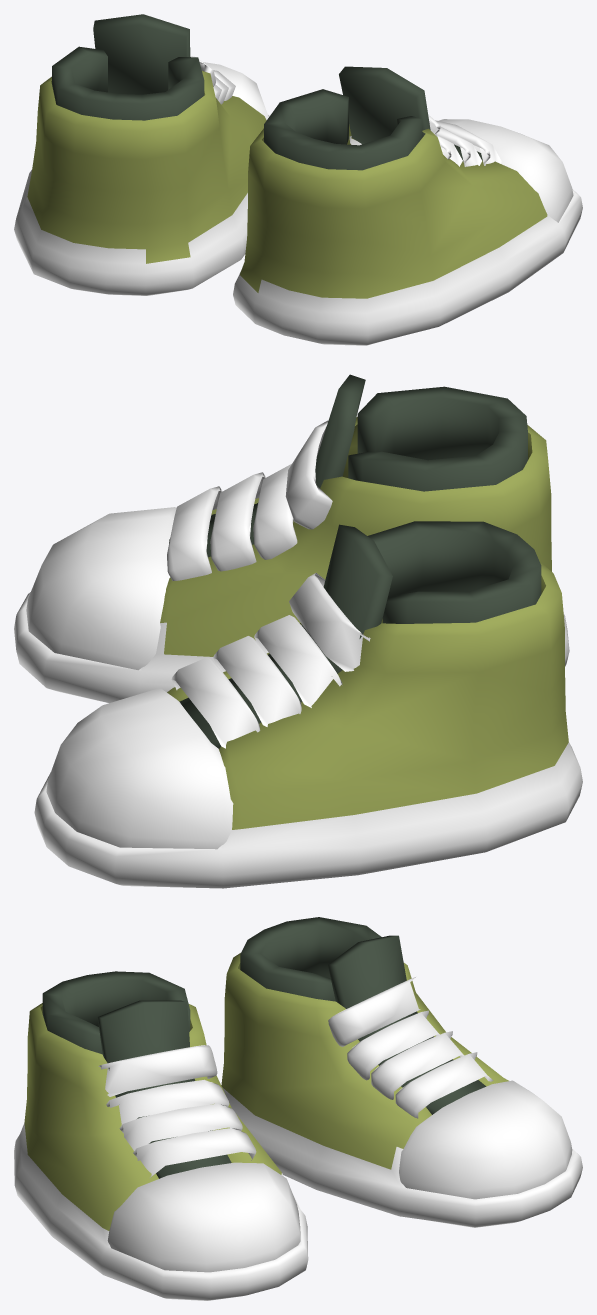
3 renders of one model, top to bottom at view 1: azimuth 30°, elevation 25°; view 2: azimuth 150°, elevation 25°; view 3: azimuth 270°, elevation 25°, orthographic. The views are drawn at different scales.
Visible parts, largest first — view 1: Cube.017; view 2: Cube.017; view 3: Cube.017.
Boxes of the visible parts, x1,y1,x2,y2 form: Cube.017: (14,14,582,345); Cube.017: (14,374,582,888); Cube.017: (14,917,582,1300).
Bounding box in the file's own units: 256 × 109 × 274.
